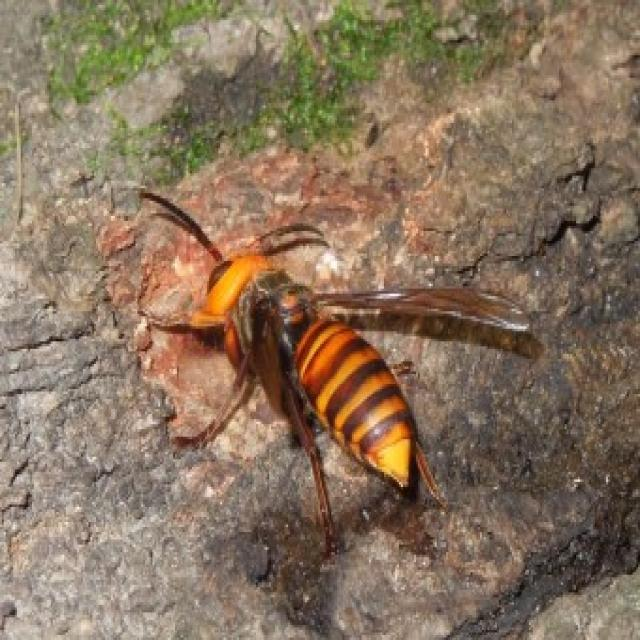Wasp: (135, 183, 534, 545)
